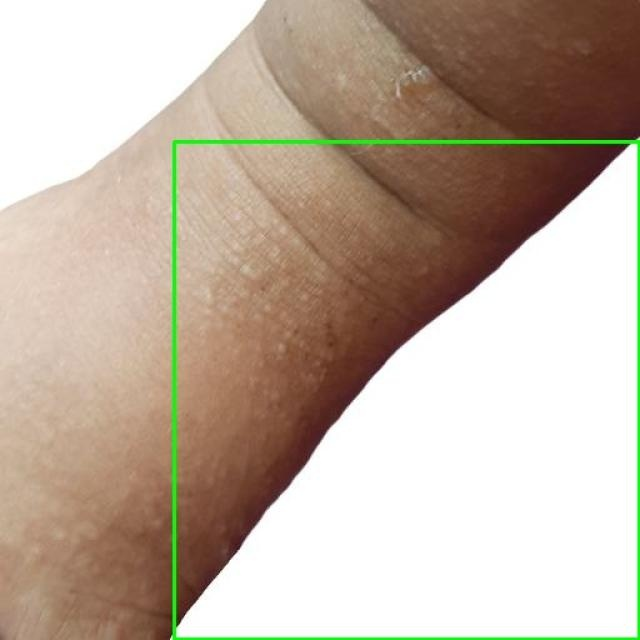Scabies: (174, 141, 639, 639)
